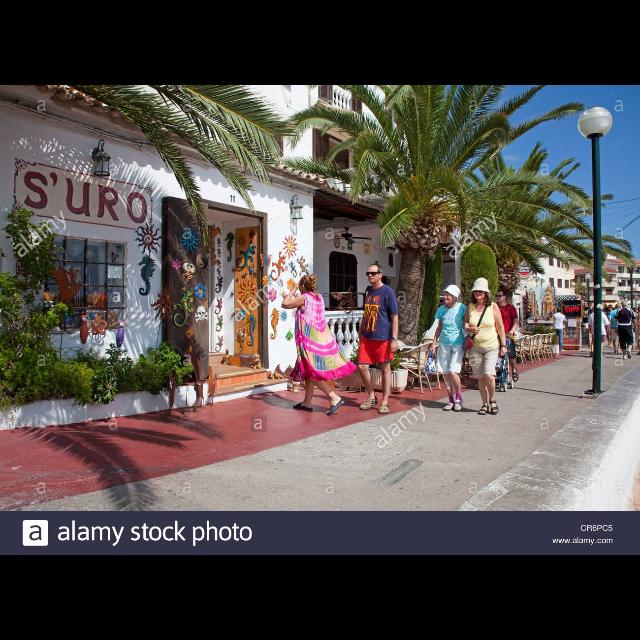head: (298, 276, 316, 296), (366, 264, 384, 282), (443, 288, 459, 306), (472, 286, 488, 300), (496, 289, 508, 303), (557, 308, 563, 314), (608, 306, 614, 312), (616, 304, 622, 310), (622, 302, 628, 308), (584, 310, 588, 316)
person: (280, 272, 360, 418), (461, 276, 509, 418), (356, 263, 400, 417), (421, 283, 472, 413), (488, 289, 522, 385), (613, 301, 637, 361), (607, 302, 627, 356), (551, 307, 567, 353), (602, 303, 618, 349), (580, 310, 590, 340)
